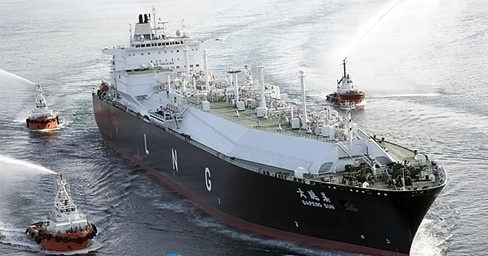Cargoship: (90, 8, 449, 255)
otherboat: (22, 176, 99, 254), (24, 81, 59, 134), (327, 64, 368, 106)
